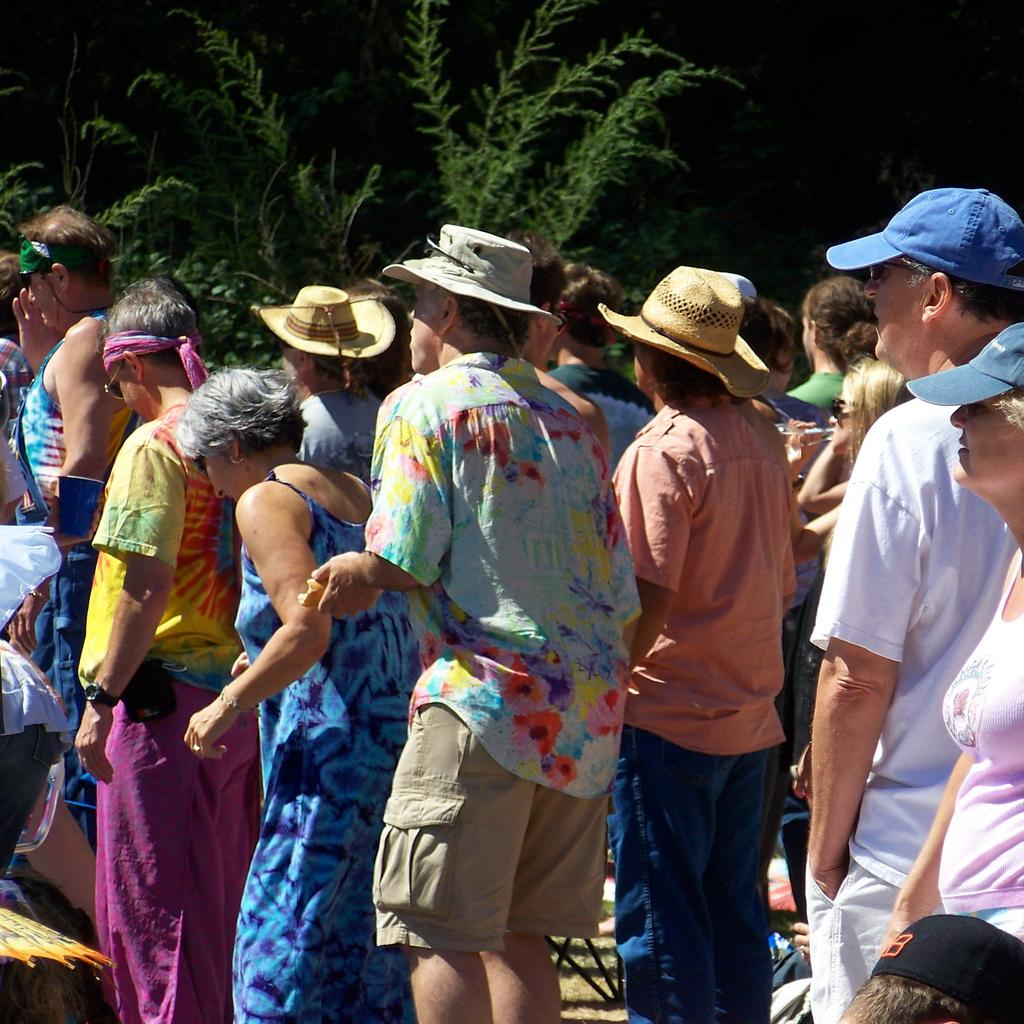Hat: (599, 262, 770, 396), (825, 188, 1023, 288), (382, 223, 554, 316), (253, 282, 398, 354), (907, 319, 1023, 408)
